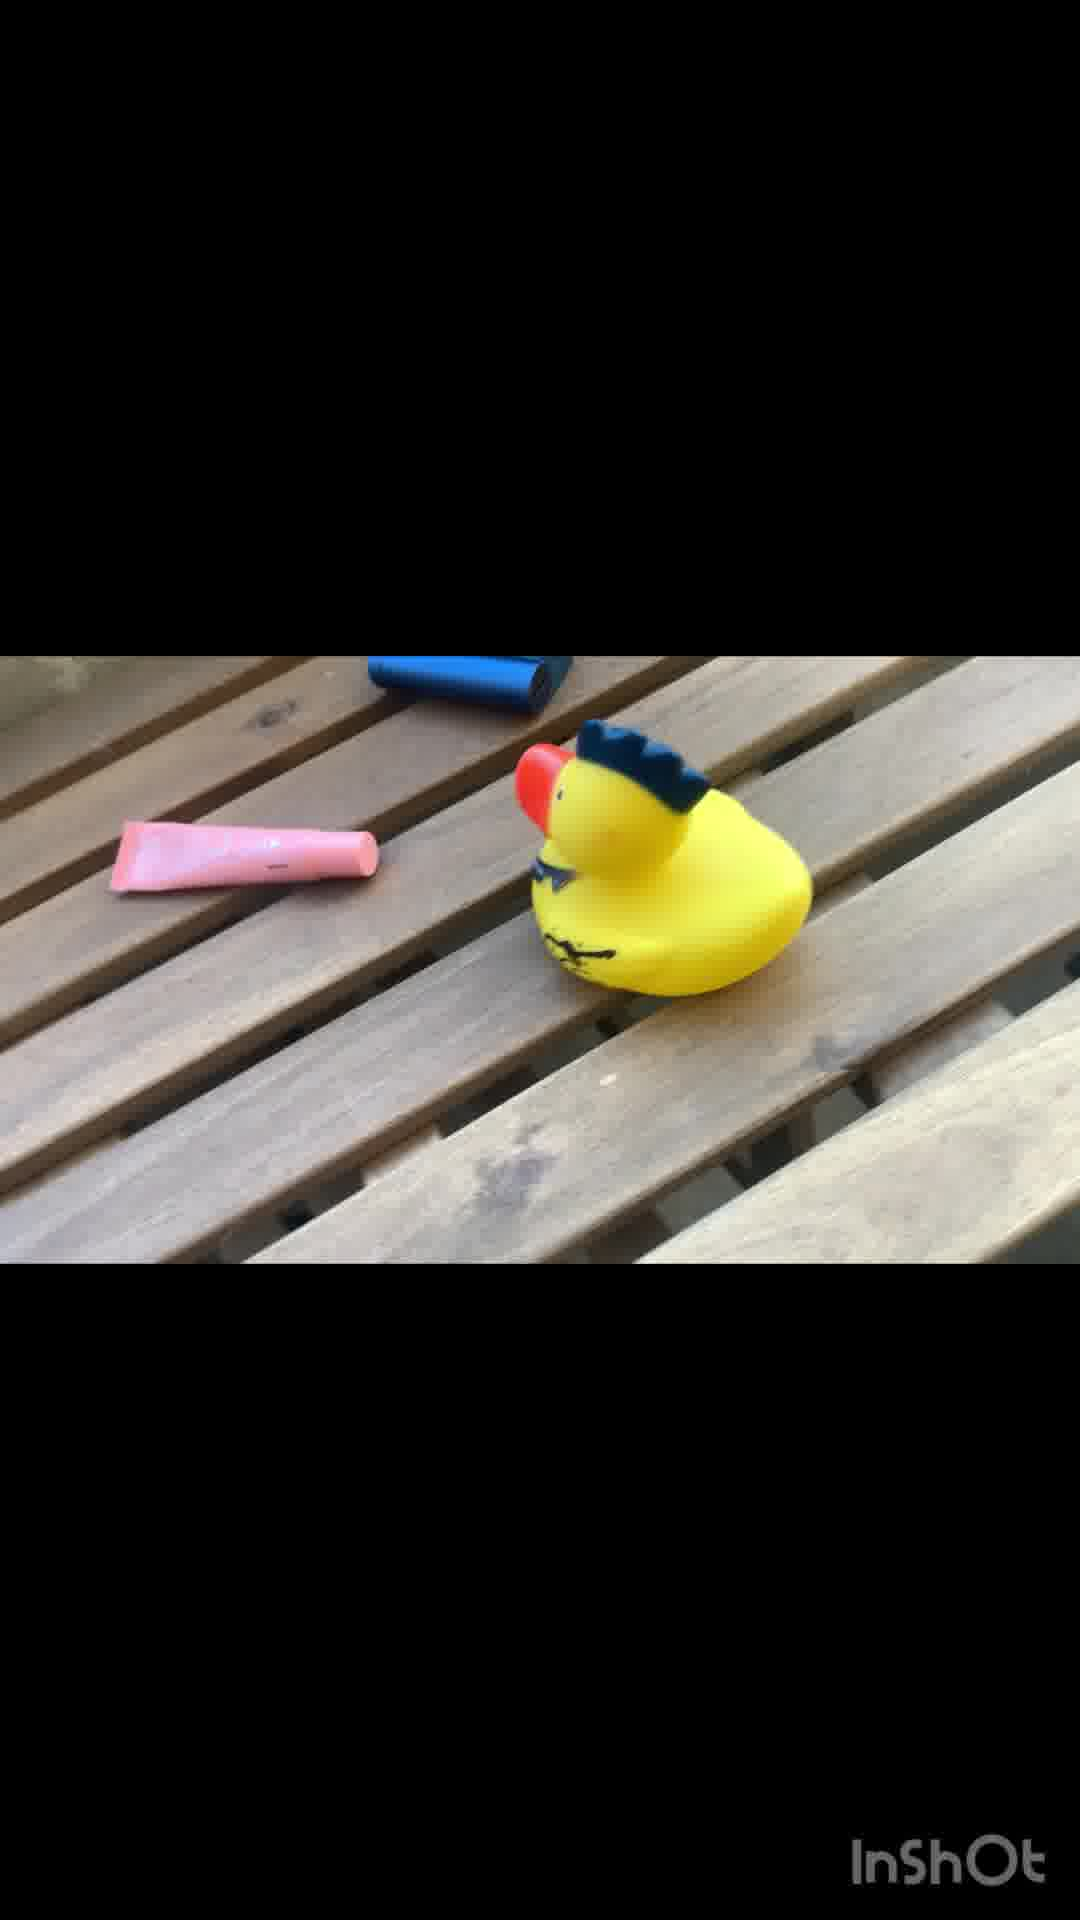duck: (518, 731, 822, 1000)
glo: (364, 654, 580, 713)
lip balm: (108, 808, 404, 893)
